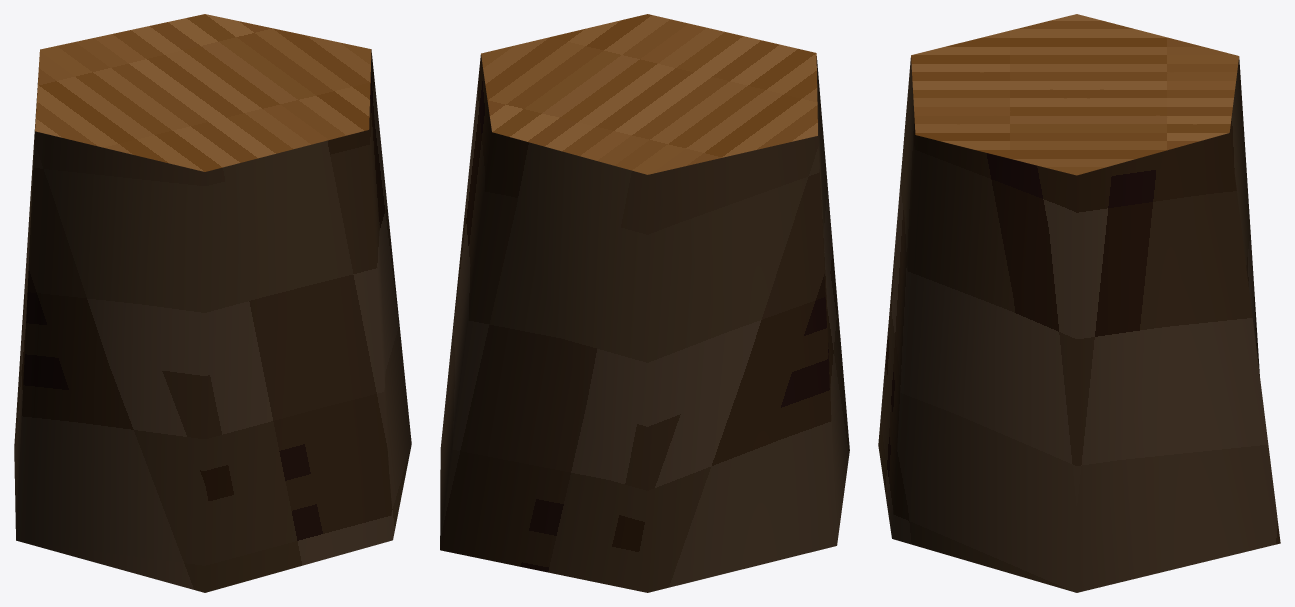
The model's file is stump01_update-lod2.glb.
The picture shows the model from 3 angles, left to right: view 1: azimuth 30°, elevation 25°; view 2: azimuth 150°, elevation 25°; view 3: azimuth 270°, elevation 25°; orthographic projection.
Visible parts, largest first — view 1: TZ_stump_Batch_00_LOD2, TZ_stump_Batch_01_LOD2; view 2: TZ_stump_Batch_00_LOD2, TZ_stump_Batch_01_LOD2; view 3: TZ_stump_Batch_00_LOD2, TZ_stump_Batch_01_LOD2.
Boxes of the visible parts, box(x1,y1,x2,y2) form: TZ_stump_Batch_00_LOD2: box(14, 49, 411, 592); TZ_stump_Batch_01_LOD2: box(35, 14, 371, 171); TZ_stump_Batch_00_LOD2: box(440, 55, 849, 592); TZ_stump_Batch_01_LOD2: box(481, 14, 817, 174); TZ_stump_Batch_00_LOD2: box(878, 57, 1280, 592); TZ_stump_Batch_01_LOD2: box(911, 14, 1239, 175).
Bounding box in the file's own units: 0.5935 × 0.58 × 0.5313.
Materials: 2 (2 with a texture image).
